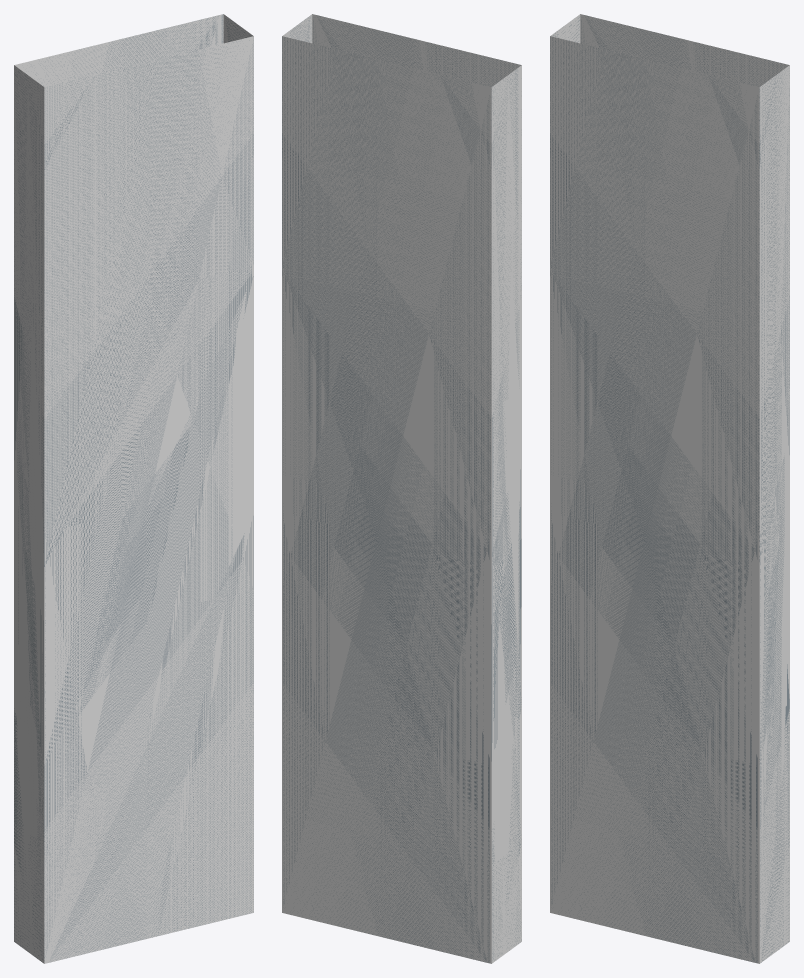
The model's file is BlockWall_ds_1x4x025.dae.
The picture shows the model from 3 angles, left to right: view 1: azimuth 30°, elevation 25°; view 2: azimuth 150°, elevation 25°; view 3: azimuth 330°, elevation 25°; orthographic projection.
Parts seen in each view (by area): view 1: group_0; view 2: group_0; view 3: group_0.
Boxes of the visible parts, <box> form: group_0: <box>14,14,253,963</box>; group_0: <box>282,14,521,963</box>; group_0: <box>550,14,789,963</box>.
Size of the model in its own units: 39.37 by 9.84 by 157.
